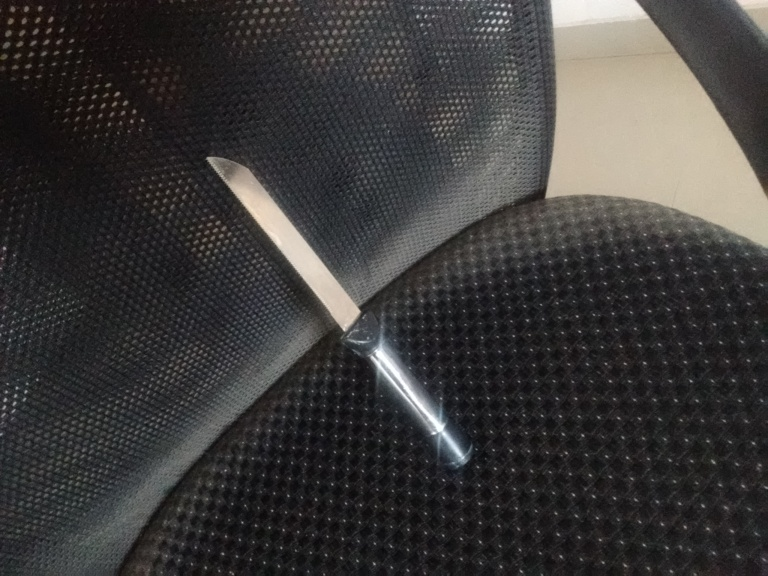knife: (204, 151, 476, 471)
